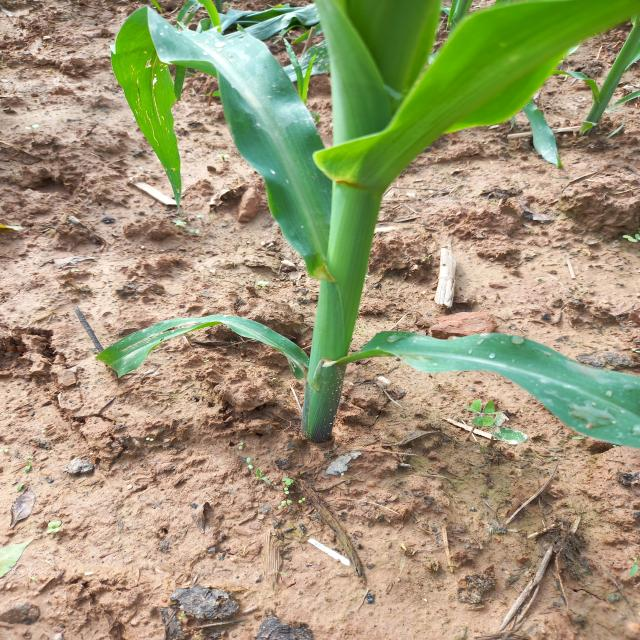maize: (116, 6, 611, 513)
weed: (454, 387, 540, 451)
